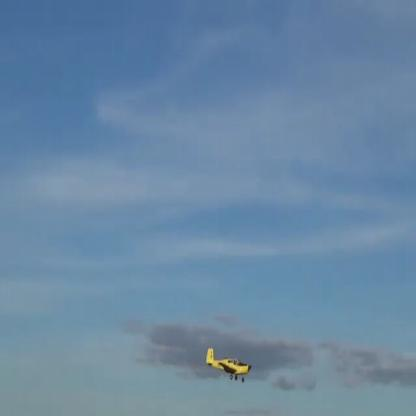CIV_Plane: (206, 348, 252, 379)
